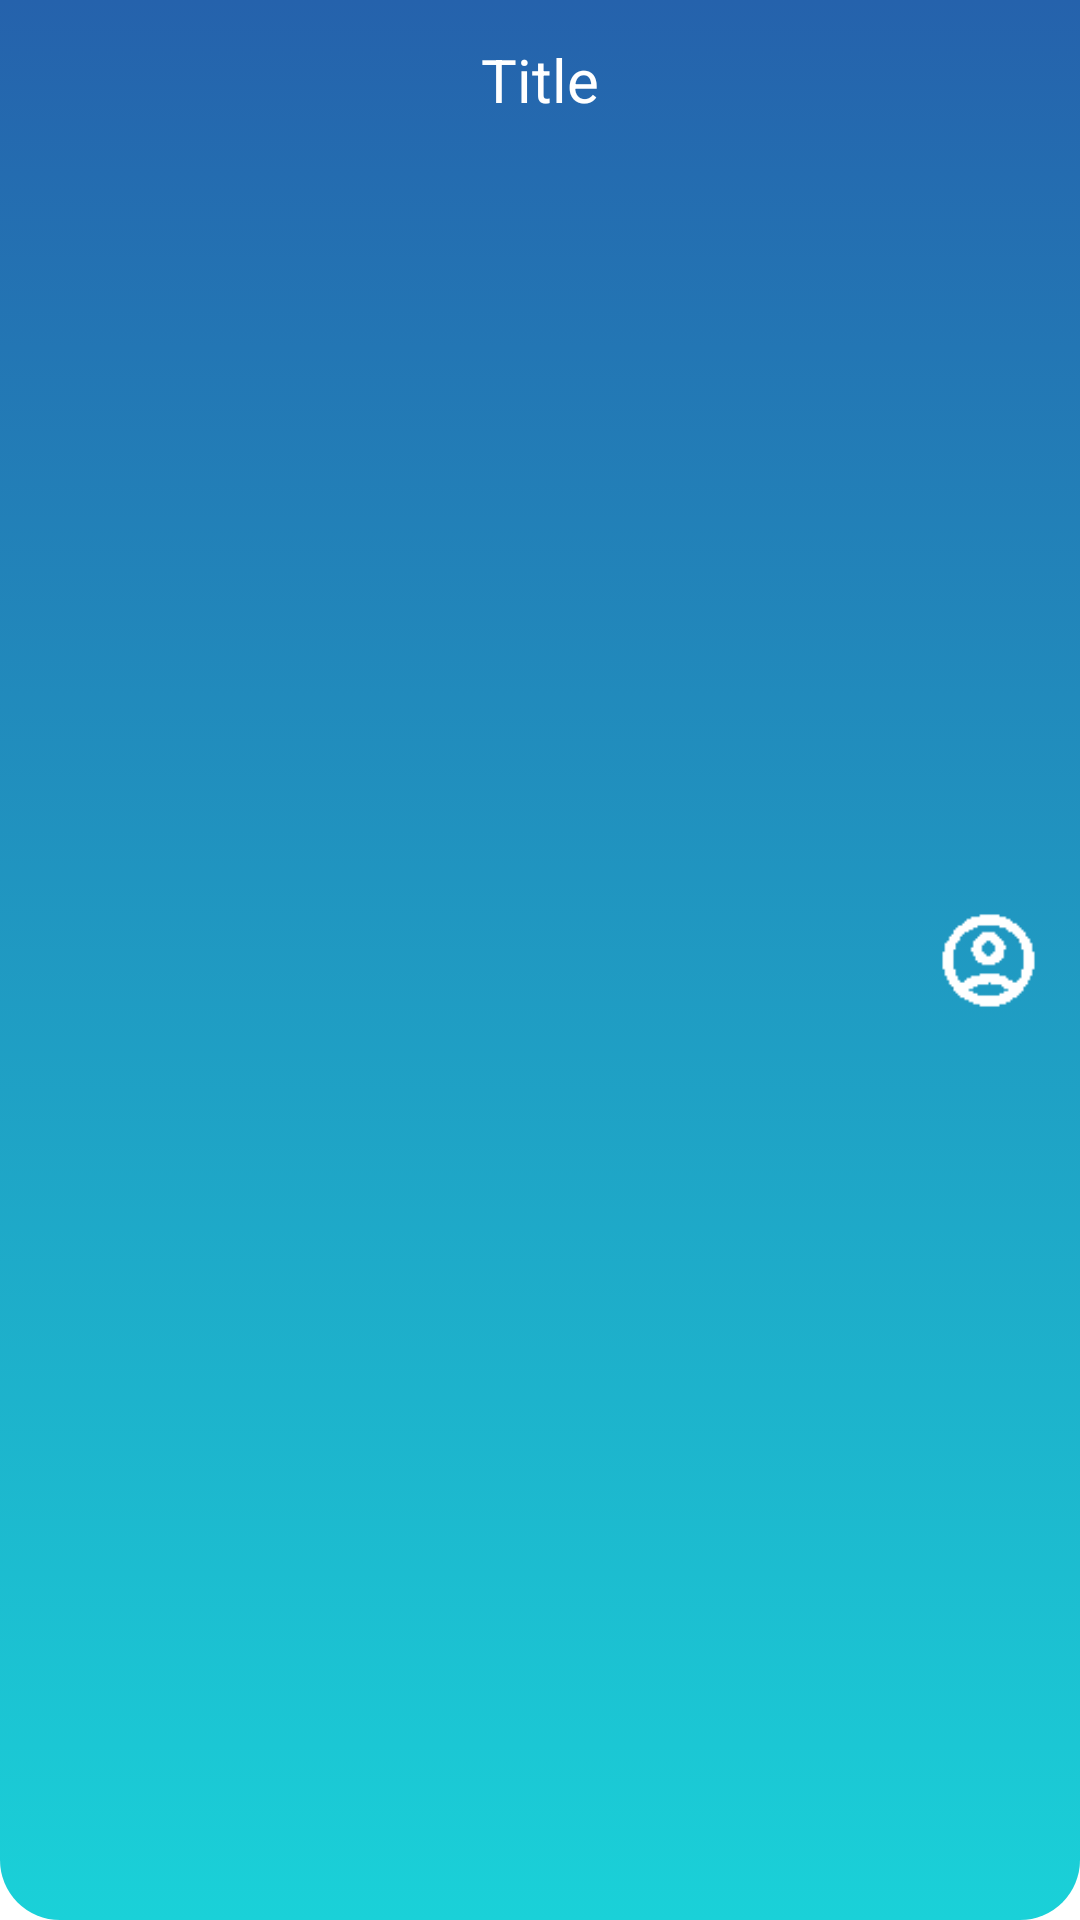

Icons on this 1080px×1920px Android screen, each with the point to tap as point (x, y):
profilebtn: point (988, 960)
